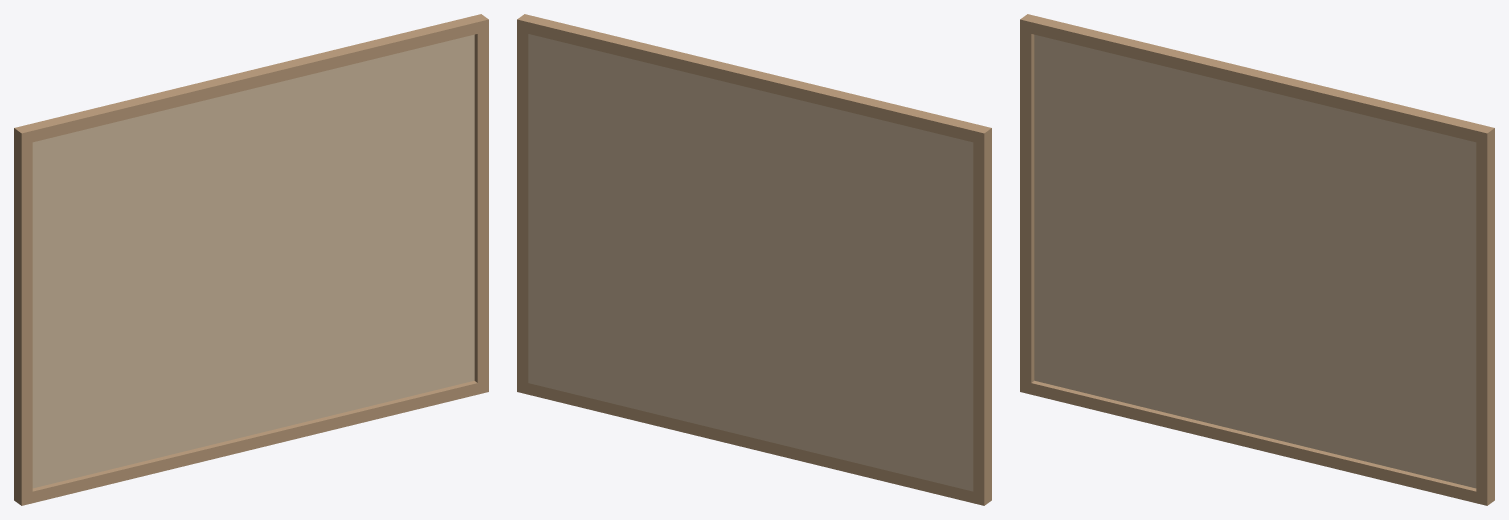
The model's file is Notice_Board.fbx.
3 renders of one model, left to right at view 1: azimuth 30°, elevation 25°; view 2: azimuth 150°, elevation 25°; view 3: azimuth 330°, elevation 25°, orthographic.
Visible parts, largest first — view 1: Notice_Board; view 2: Notice_Board; view 3: Notice_Board.
Boxes of the visible parts, x1,y1,x2,y2 form: Notice_Board: (14, 14, 488, 505); Notice_Board: (517, 14, 991, 505); Notice_Board: (1020, 14, 1494, 505).
Size of the model in its own units: 1.26 by 0.96 by 0.035.
